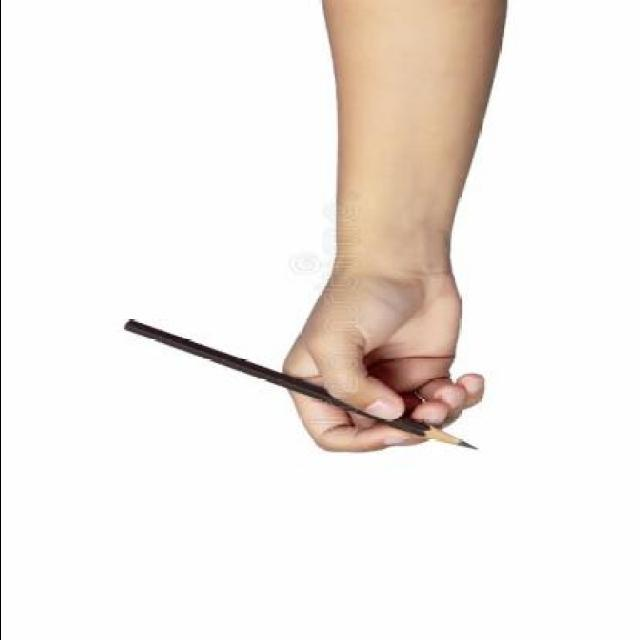pencil: (410, 423, 481, 451)
